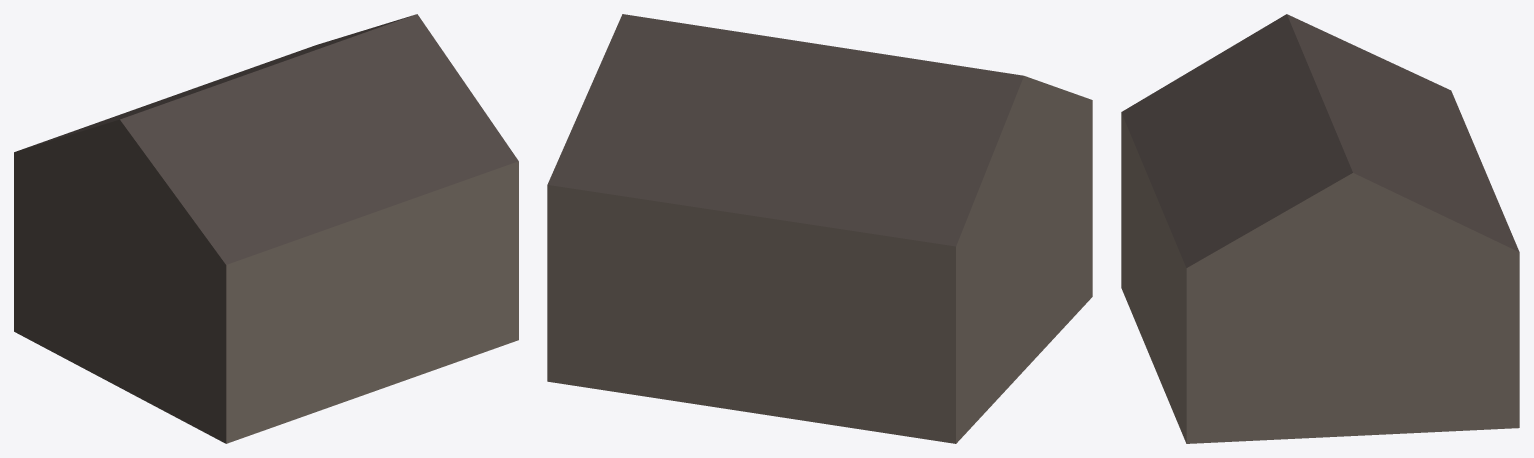
3 views of the same model, side by side, from view 1: azimuth 30°, elevation 25°; view 2: azimuth 150°, elevation 25°; view 3: azimuth 270°, elevation 25° (orthographic). The views are drawn at different scales.
Visible parts, largest first — view 1: HP-w1365659947; view 2: HP-w1365659947; view 3: HP-w1365659947.
Part boxes in pixels (box(x1,y1,x2,y2)): HP-w1365659947: box(14, 14, 518, 443); HP-w1365659947: box(547, 14, 1092, 443); HP-w1365659947: box(1121, 14, 1519, 443).
Size of the model in its own units: 12.98 by 8.99 by 12.33.
